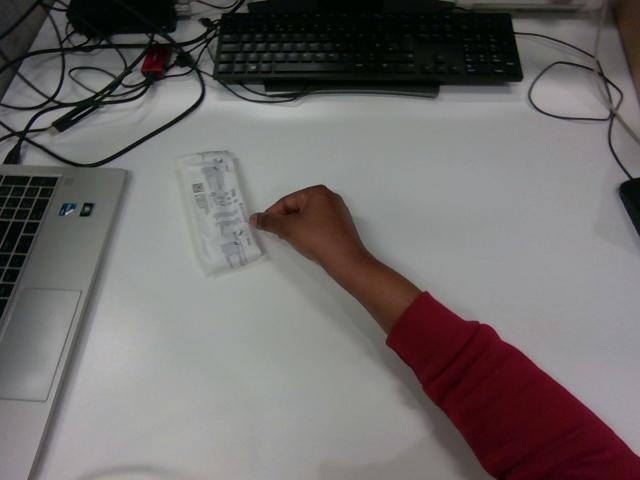syringe: (178, 151, 261, 274)
